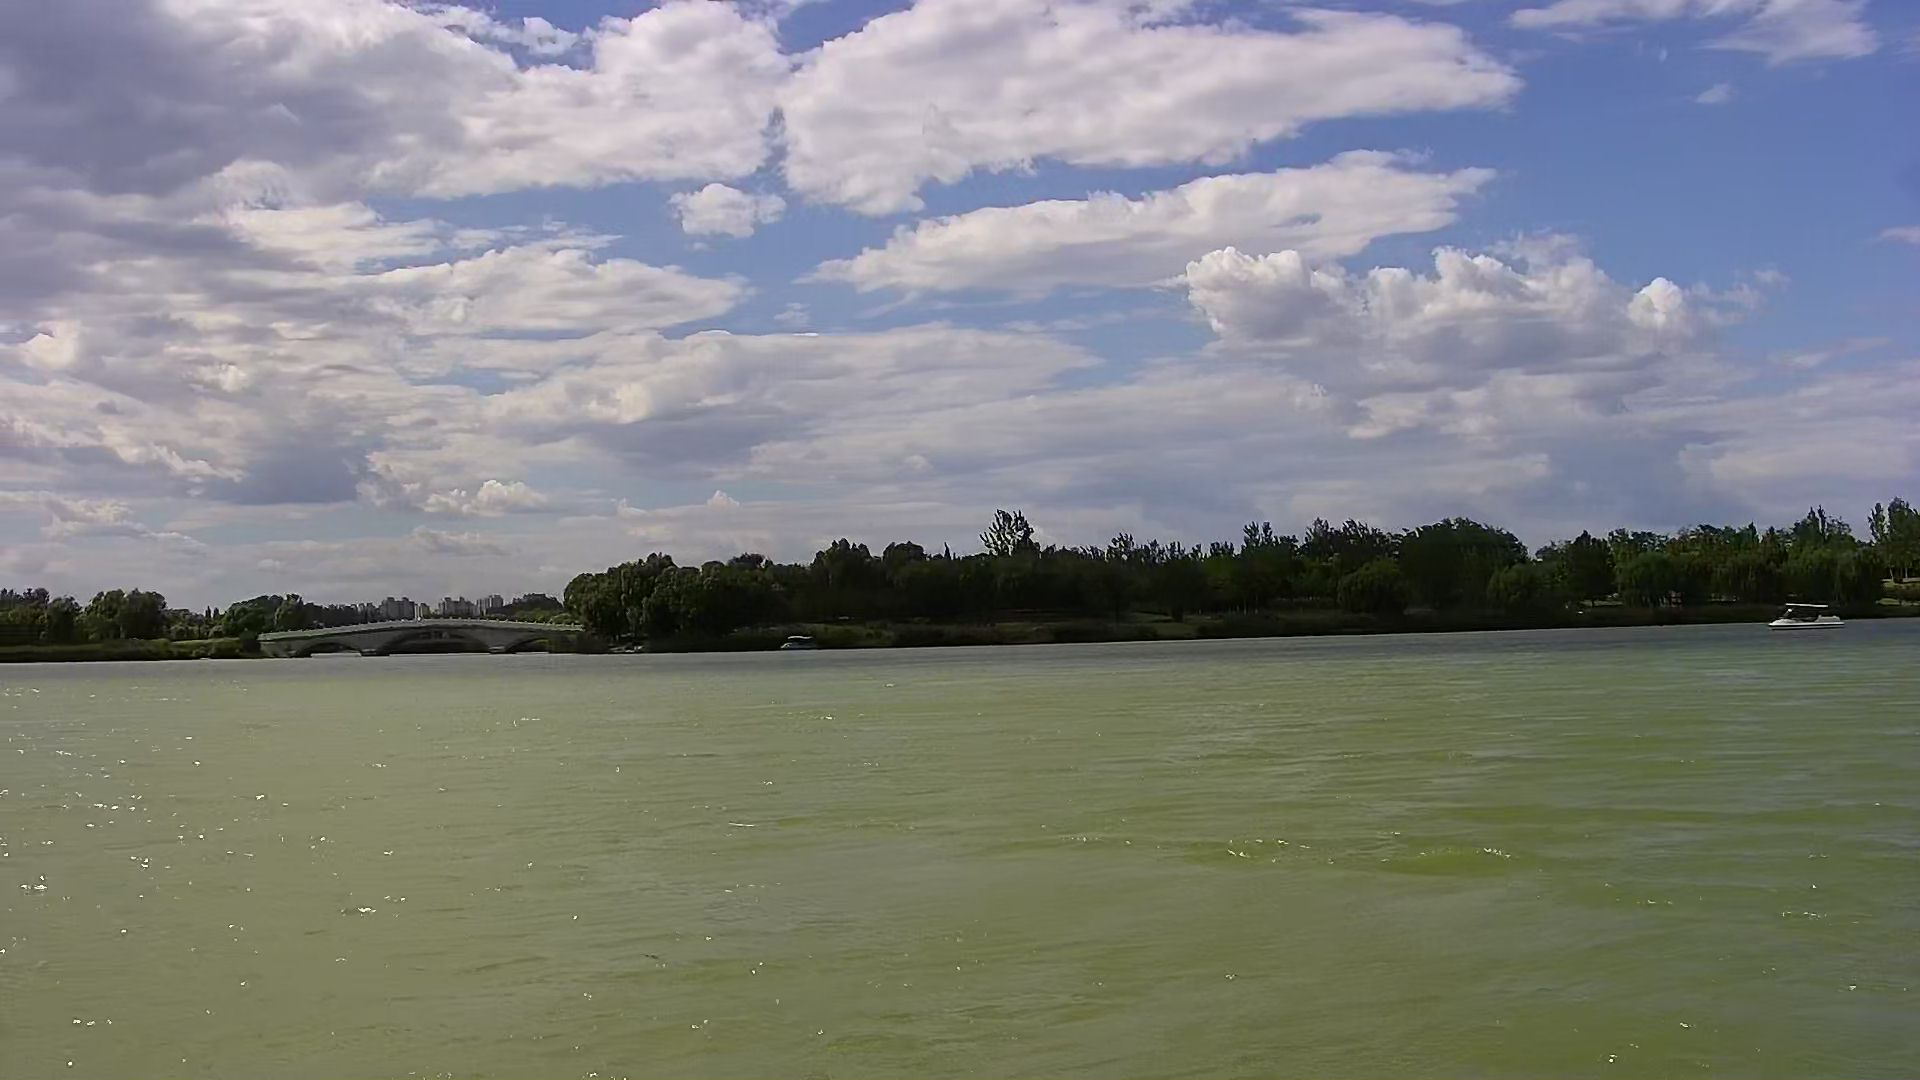boat: (1771, 601, 1844, 632), (778, 632, 824, 650)
bridge: (262, 618, 585, 655)
